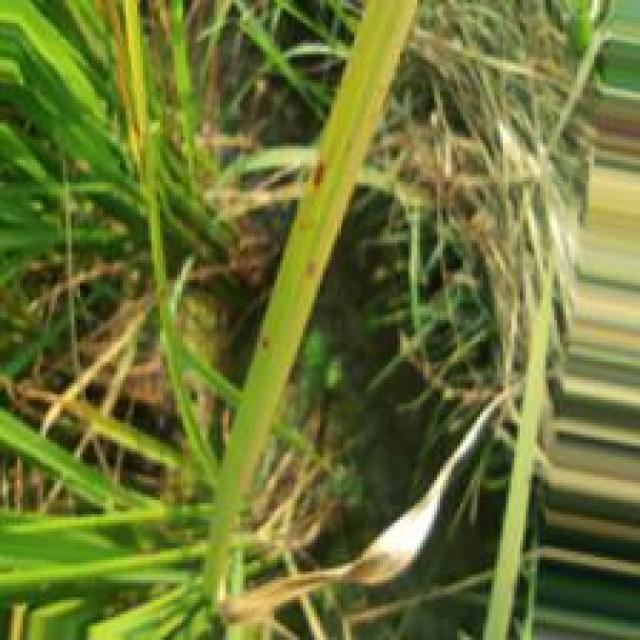Brown_Spot: (310, 154, 330, 191), (303, 256, 316, 277), (262, 333, 272, 354)
